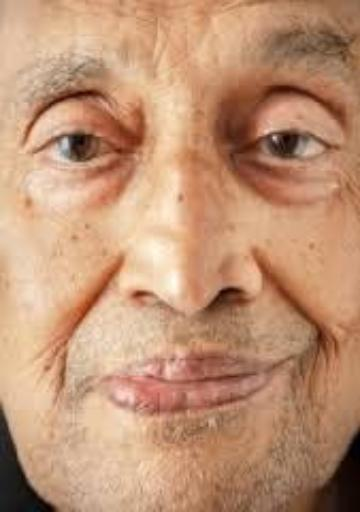left_eye: (226, 124, 345, 171)
left_lip_corner: (269, 348, 305, 379)
right_eye: (32, 125, 117, 170)
right_lip_corner: (85, 361, 136, 400)
